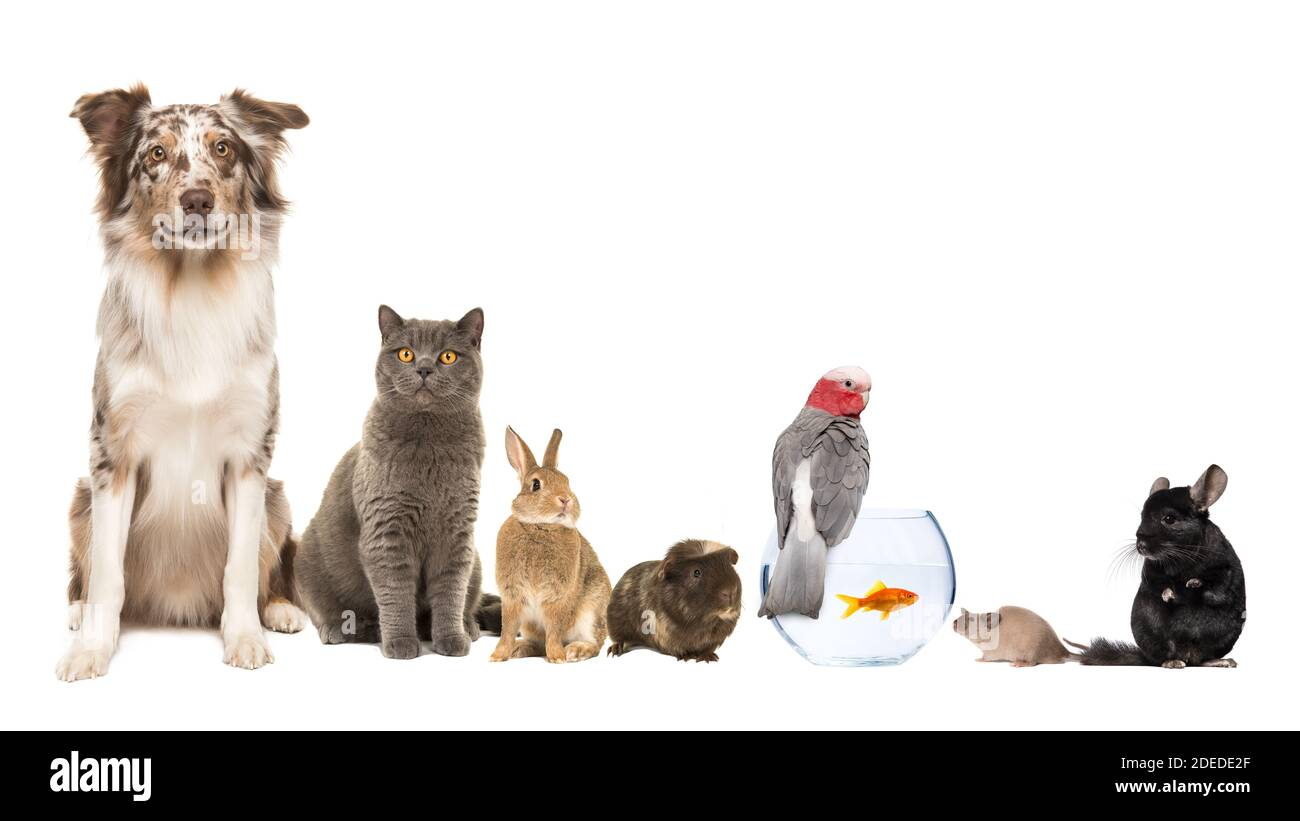cat: (322, 266, 483, 679)
dog: (34, 58, 309, 678)
rabbit: (494, 411, 600, 689)
